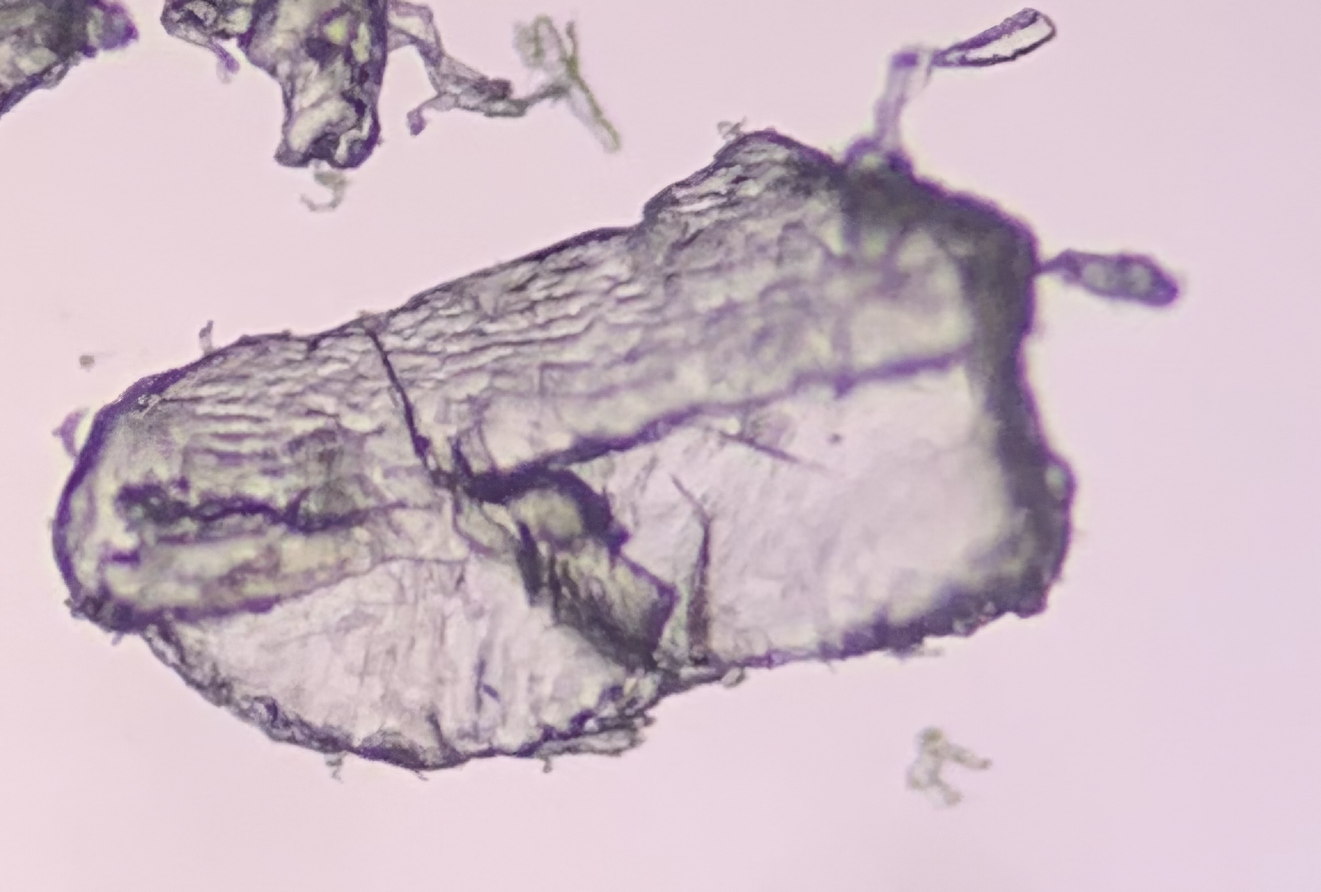microplastic: (44, 7, 1179, 787), (154, 1, 622, 213), (1, 1, 142, 124), (901, 726, 994, 816)
